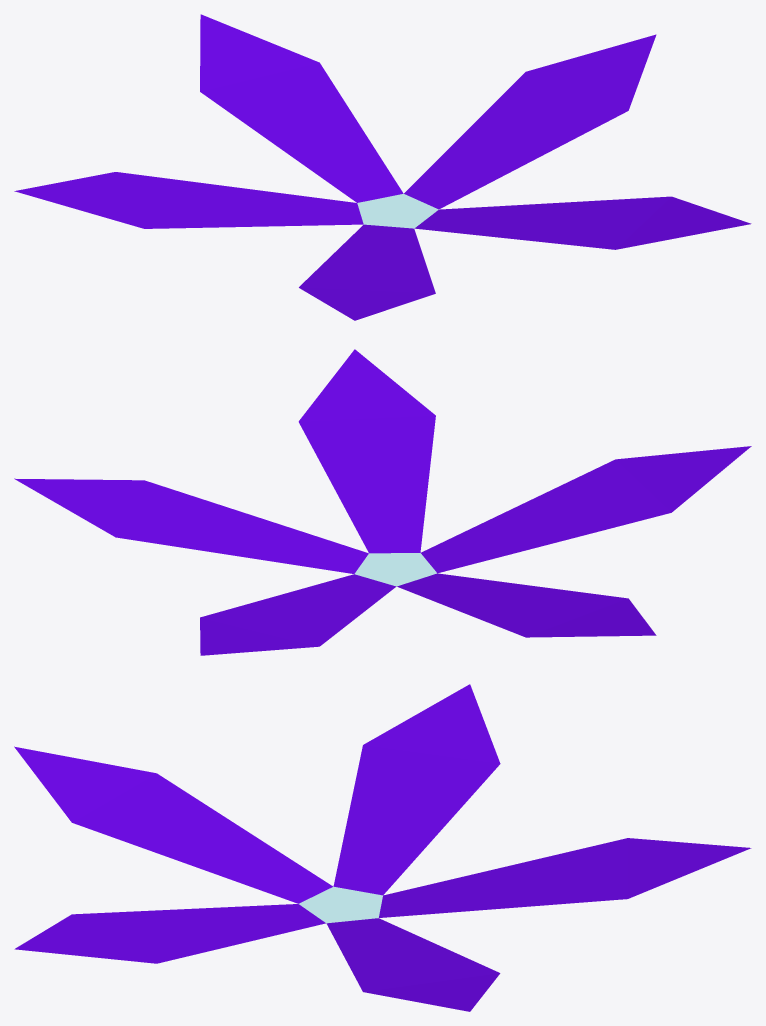
The model's file is Flower_35.fbx.
3 renders of one model, top to bottom at view 1: azimuth 30°, elevation 25°; view 2: azimuth 150°, elevation 25°; view 3: azimuth 270°, elevation 25°, orthographic. The views are drawn at different scales.
Parts seen in each view (by area): view 1: Flower_35; view 2: Flower_35; view 3: Flower_35.
Part boxes in pixels (x1,y1,x2,y2): Flower_35: [14, 14, 751, 320]; Flower_35: [14, 349, 751, 655]; Flower_35: [14, 684, 751, 1011].
Bounding box in the file's own units: 34.49 × 2.82 × 32.8.
